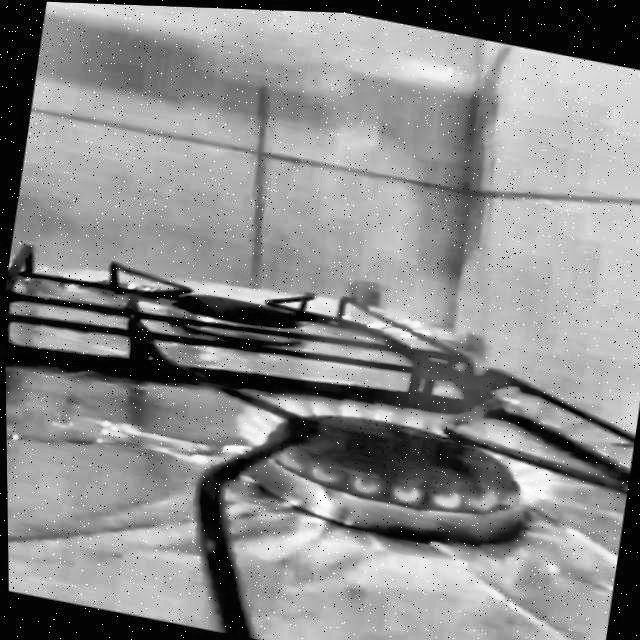Fire: (220, 144, 611, 533)
